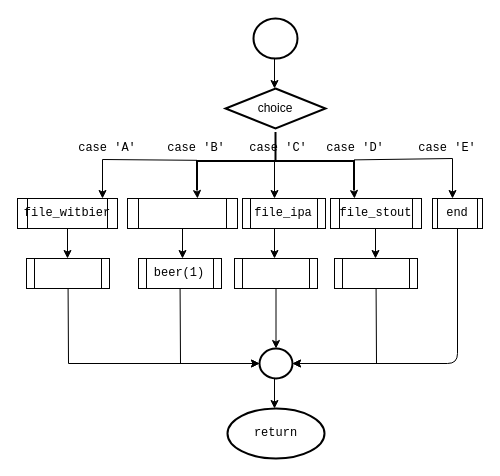
The diagram is 500 pixels wide and 476 high, and some of its shapes have lost their labels. Each missing label, with the box of its shape:
beer(0): (26, 258, 110, 288)
beer(2): (234, 258, 318, 288)
beer(3): (334, 258, 418, 288)
file_pale_ale: (126, 198, 238, 228)
